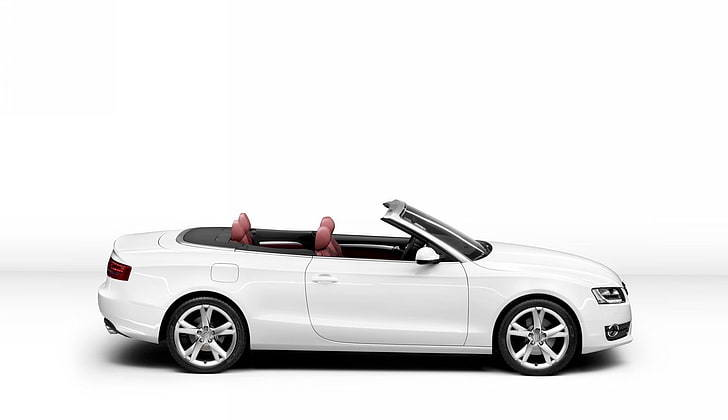audi: (91, 197, 640, 380)
